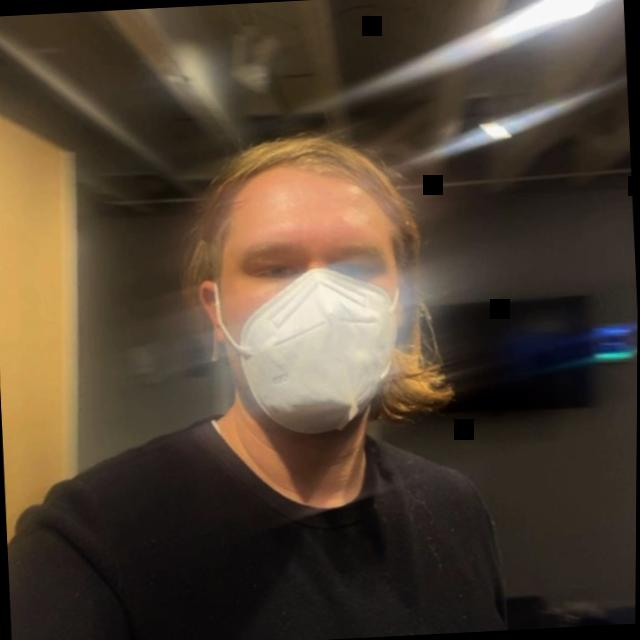Mask: (179, 105, 468, 486)
